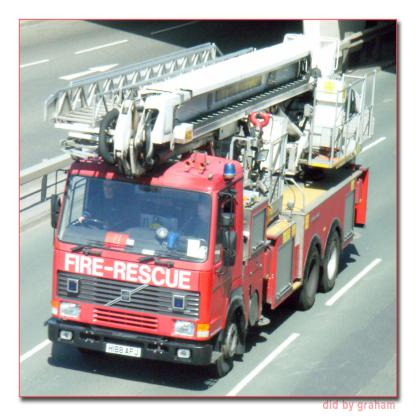Truck: (40, 66, 369, 386)
